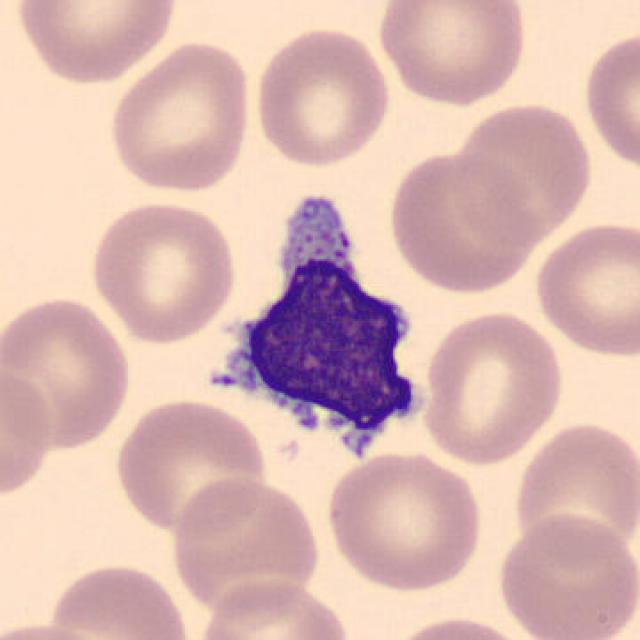Lymphocyte: (197, 185, 439, 476)
RBC: (103, 37, 256, 196), (322, 448, 487, 594), (418, 307, 567, 467), (382, 146, 540, 296), (85, 198, 242, 346), (110, 395, 270, 539), (167, 473, 324, 617), (0, 291, 137, 451), (448, 99, 597, 245), (250, 23, 394, 171), (508, 416, 638, 566), (492, 509, 638, 640), (374, 0, 532, 108), (530, 217, 638, 360), (10, 0, 181, 86), (41, 559, 195, 640), (194, 575, 354, 640), (580, 23, 638, 174), (0, 360, 59, 506), (381, 612, 535, 640), (2, 619, 121, 640)
